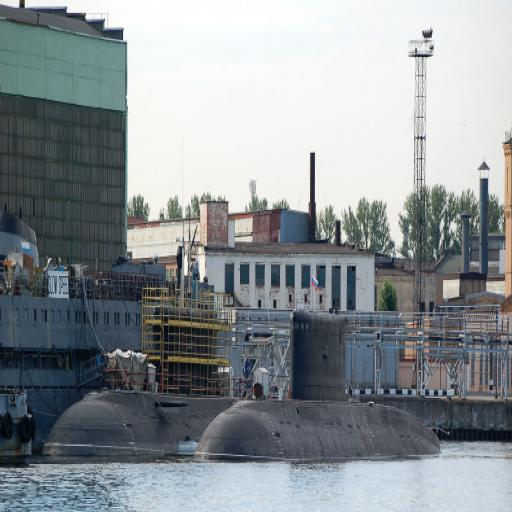submarine: (205, 311, 443, 448), (38, 391, 240, 460)
